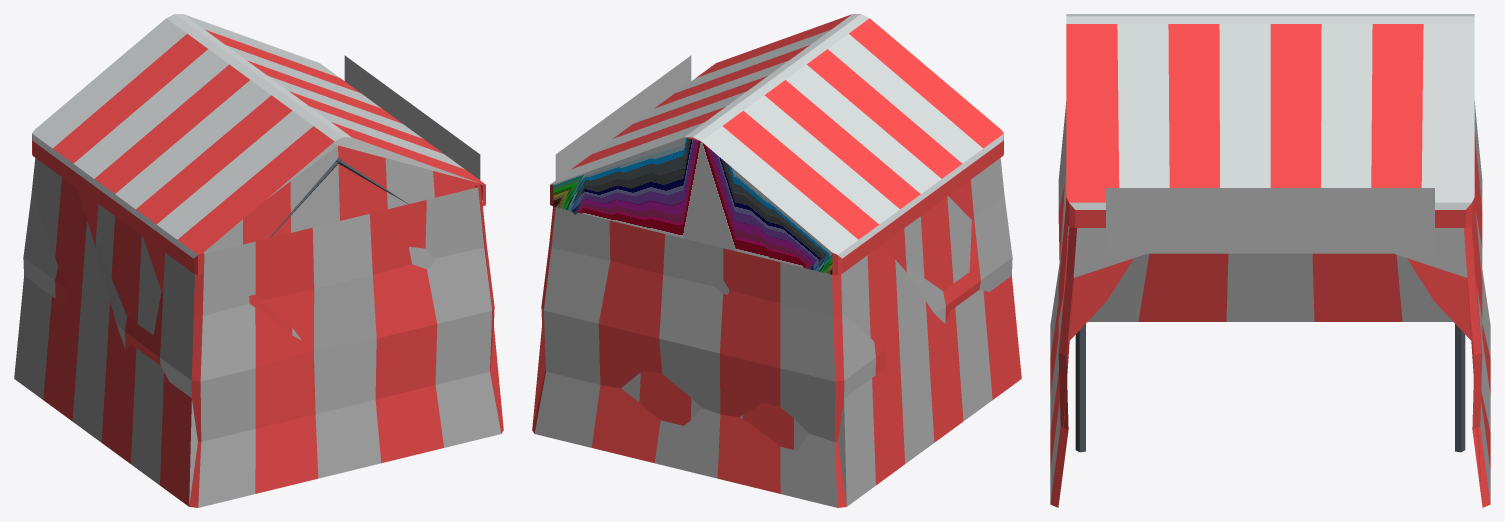
Rendered from rowtataiyakitori.fbx.
The picture shows the model from 3 angles, left to right: view 1: azimuth 30°, elevation 25°; view 2: azimuth 150°, elevation 25°; view 3: azimuth 270°, elevation 25°; orthographic projection. The views are drawn at different scales.
Visible parts, largest first — view 1: 立方体.001, 立方体, 立方体.003, 平面, 円柱.003; view 2: 立方体.001, 立方体, 立方体.003, 平面; view 3: 立方体, 立方体.001, 平面, 円柱, 立方体.003.
Boxes of the visible parts, bbox=[...] form: 立方体.001: bbox=[23, 158, 503, 507]; 立方体: bbox=[32, 14, 485, 274]; 立方体.003: bbox=[14, 137, 503, 506]; 平面: bbox=[344, 55, 480, 179]; 円柱.003: bbox=[269, 157, 408, 238]; 立方体.001: bbox=[532, 158, 1012, 507]; 立方体: bbox=[550, 14, 1003, 274]; 立方体.003: bbox=[532, 137, 1021, 506]; 平面: bbox=[555, 55, 691, 179]; 立方体: bbox=[1066, 14, 1474, 227]; 立方体.001: bbox=[1050, 101, 1490, 507]; 平面: bbox=[1106, 188, 1434, 253]; 円柱: bbox=[1075, 324, 1465, 452]; 立方体.003: bbox=[1058, 278, 1482, 501].
Size of the model in its own units: 216 by 215 by 216.
